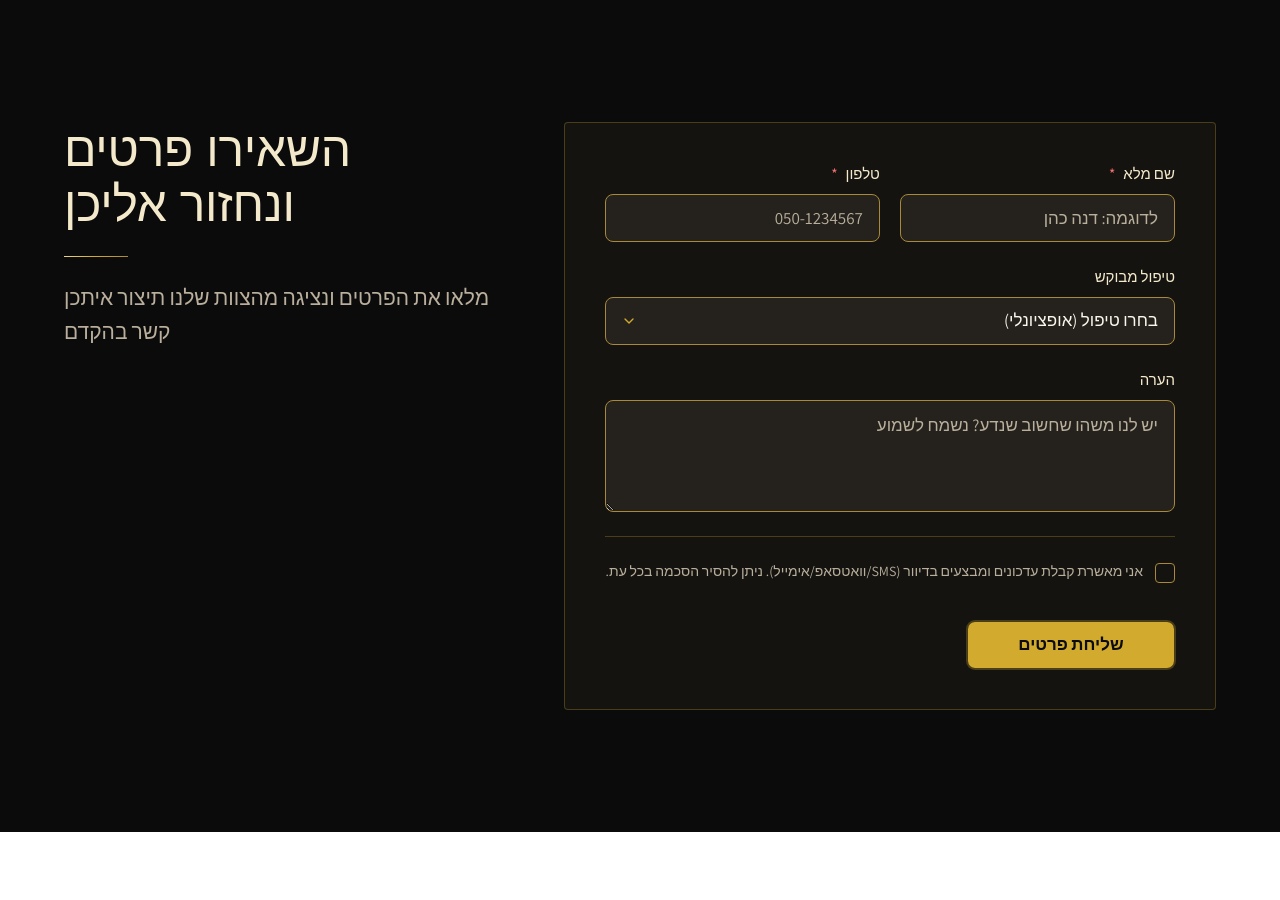
Test case: ContactFormSection › טופס תקין עם שם וטלפון תקינים עובר ולידציה ומציג הודעת הצלחה
This screenshot has width=1280, height=900.
Type "דנה כהן" into the field labelled "שם מלא *" at (1037, 218), box [900,194,1175,242]
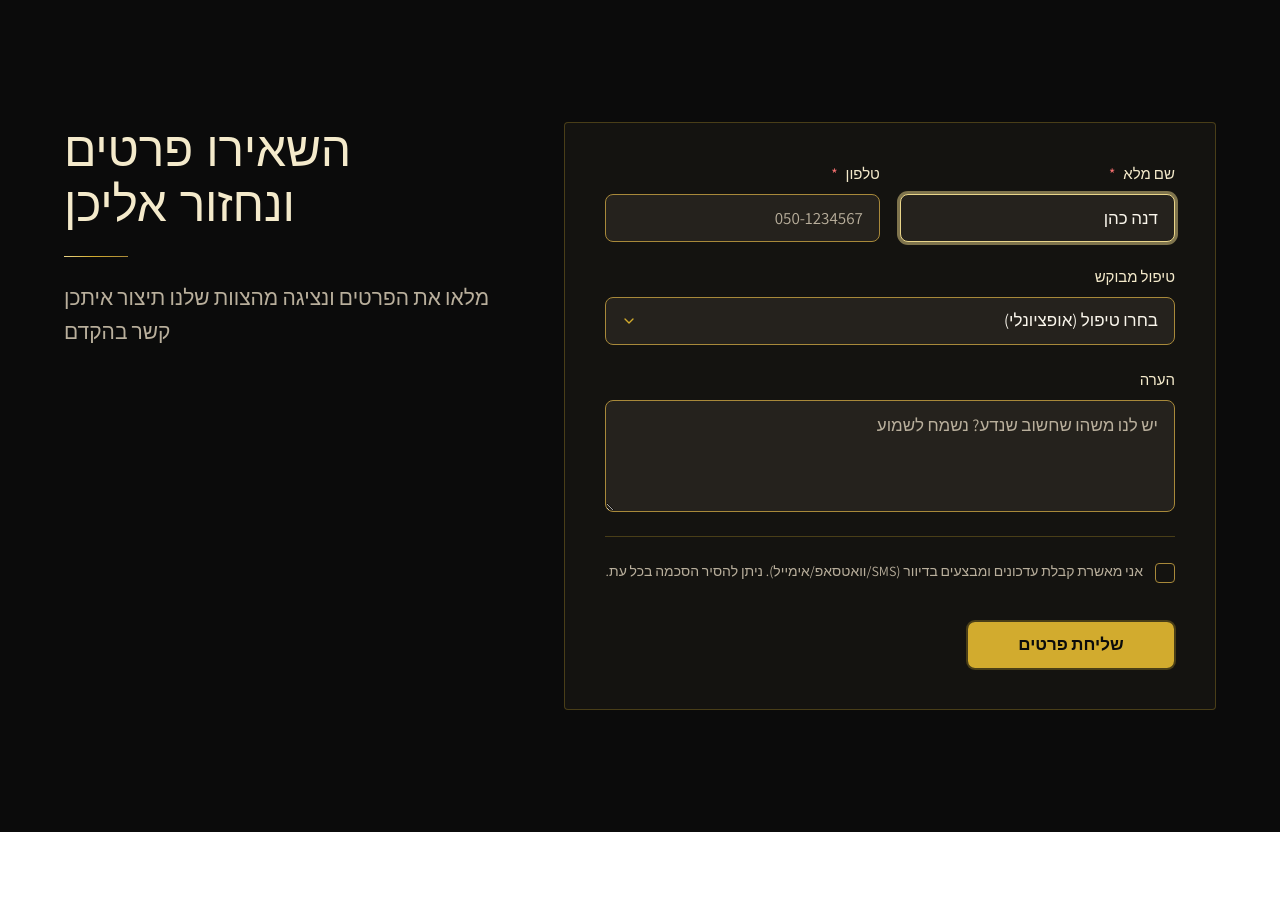
Type "0501234567" into the field labelled "טלפון *" at (742, 218), box [605,194,880,242]
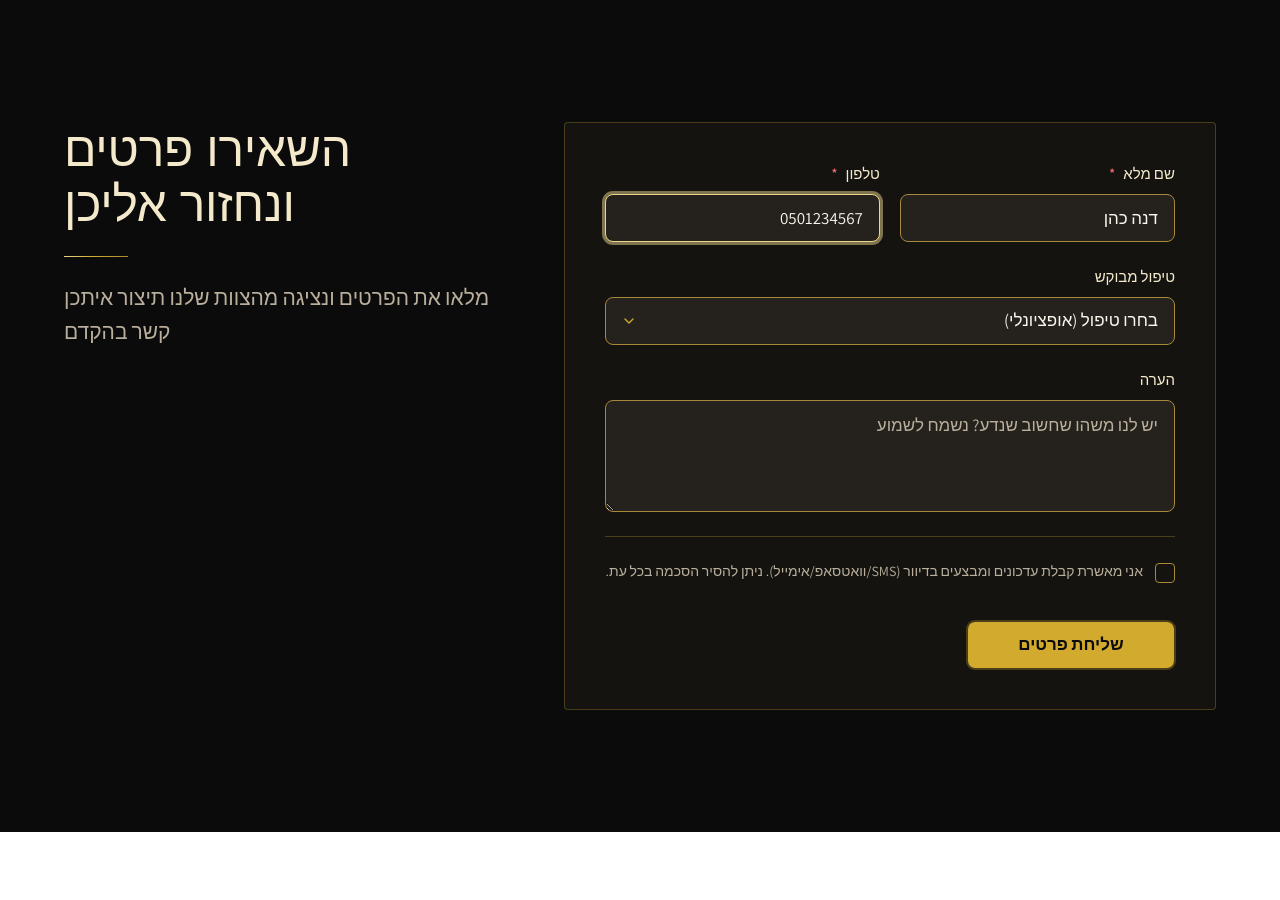
Click the button "שליחת פרטים" at (1071, 645), box [967,621,1175,669]
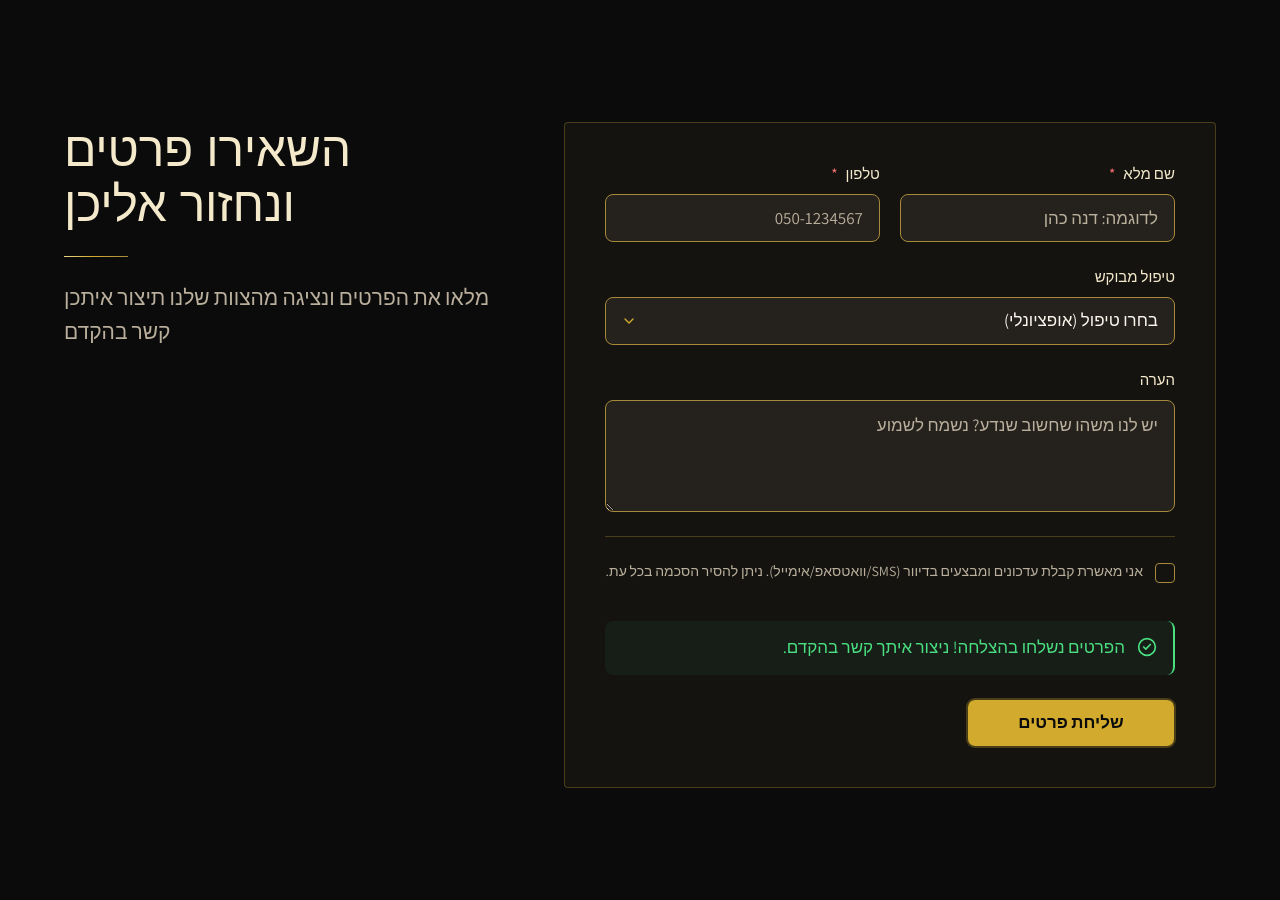
expect the message shows "הפרטים נשלחו בהצלחה": met, box [783,636,1125,658]
